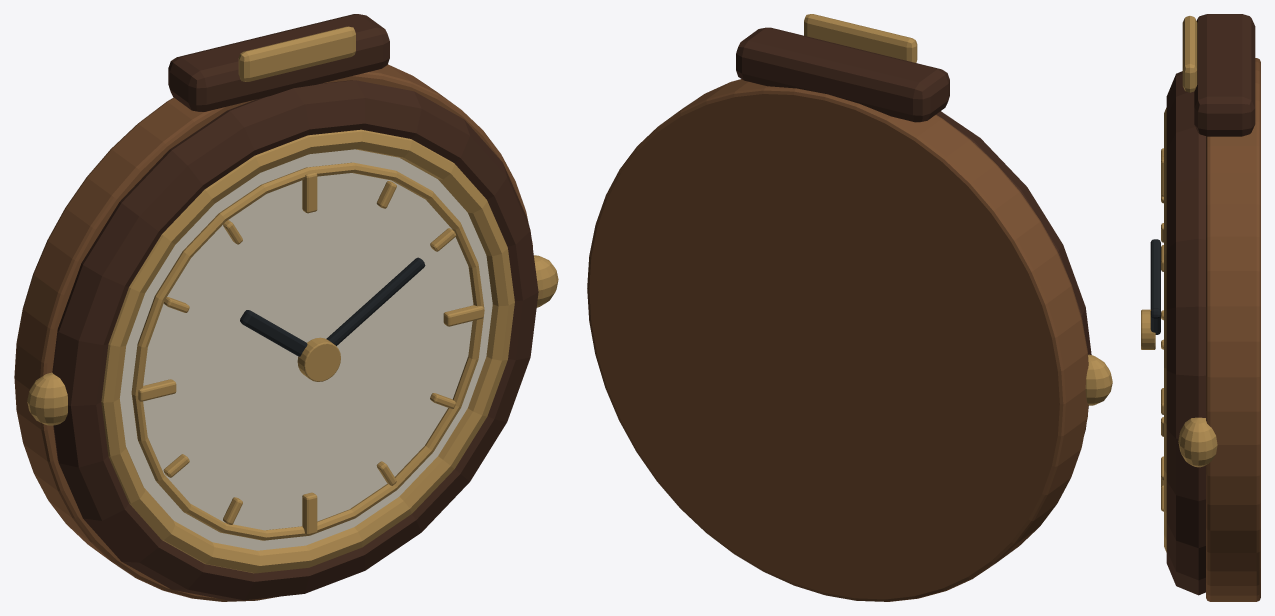
Rendered from grand_wall_clock.glb.
3 views of the same model, side by side, from view 1: azimuth 30°, elevation 25°; view 2: azimuth 150°, elevation 25°; view 3: azimuth 270°, elevation 25° (orthographic). The views are drawn at different scales.
Parts seen in each view (by area): view 1: grand_wall_clock; view 2: grand_wall_clock; view 3: grand_wall_clock.
Boxes of the visible parts, x1,y1,x2,y2 form: grand_wall_clock: (14, 14, 558, 601); grand_wall_clock: (587, 14, 1112, 601); grand_wall_clock: (1141, 14, 1260, 601).
Size of the model in its own units: 1 by 1.02 by 0.207.
